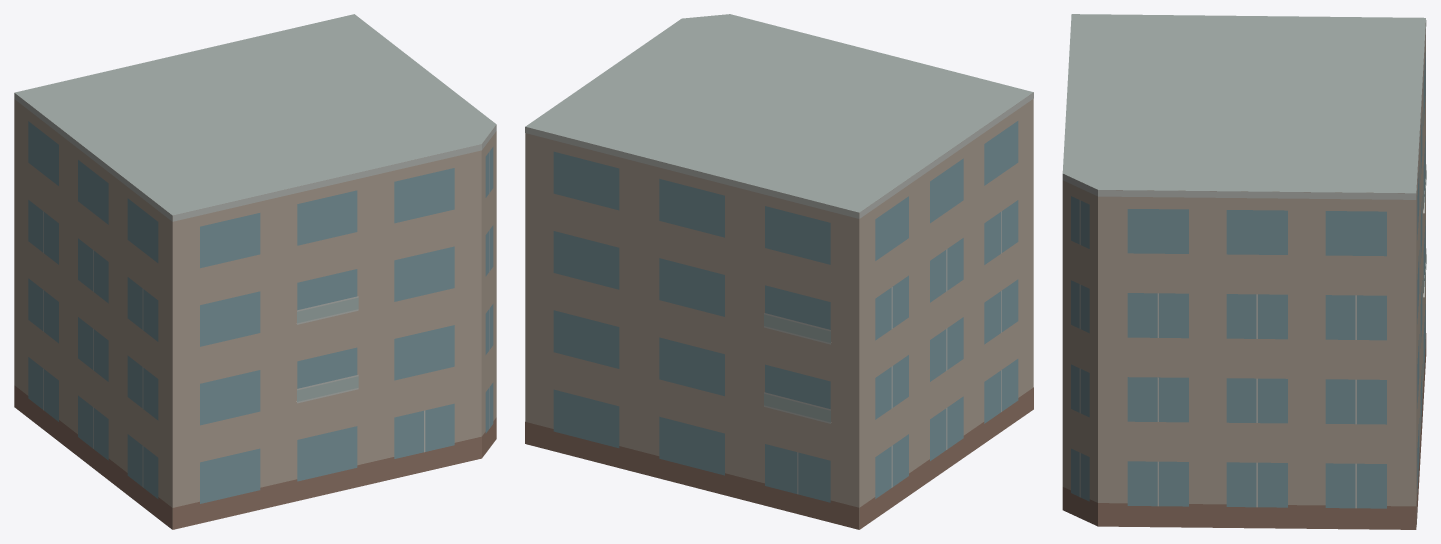
Rendered from survey-upis-32490673.glb.
3 renders of one model, left to right at view 1: azimuth 30°, elevation 25°; view 2: azimuth 150°, elevation 25°; view 3: azimuth 270°, elevation 25°, orthographic. The views are drawn at different scales.
Visible parts, largest first — view 1: survey-upis-32490673.tmp; view 2: survey-upis-32490673.tmp; view 3: survey-upis-32490673.tmp.
Boxes of the visible parts, x1=… form: survey-upis-32490673.tmp: x1=14, y1=14, x2=496, y2=529; survey-upis-32490673.tmp: x1=525, y1=14, x2=1033, y2=529; survey-upis-32490673.tmp: x1=1062, y1=14, x2=1426, y2=529.
Bounding box in the file's own units: 13.97 × 12.23 × 11.99.
